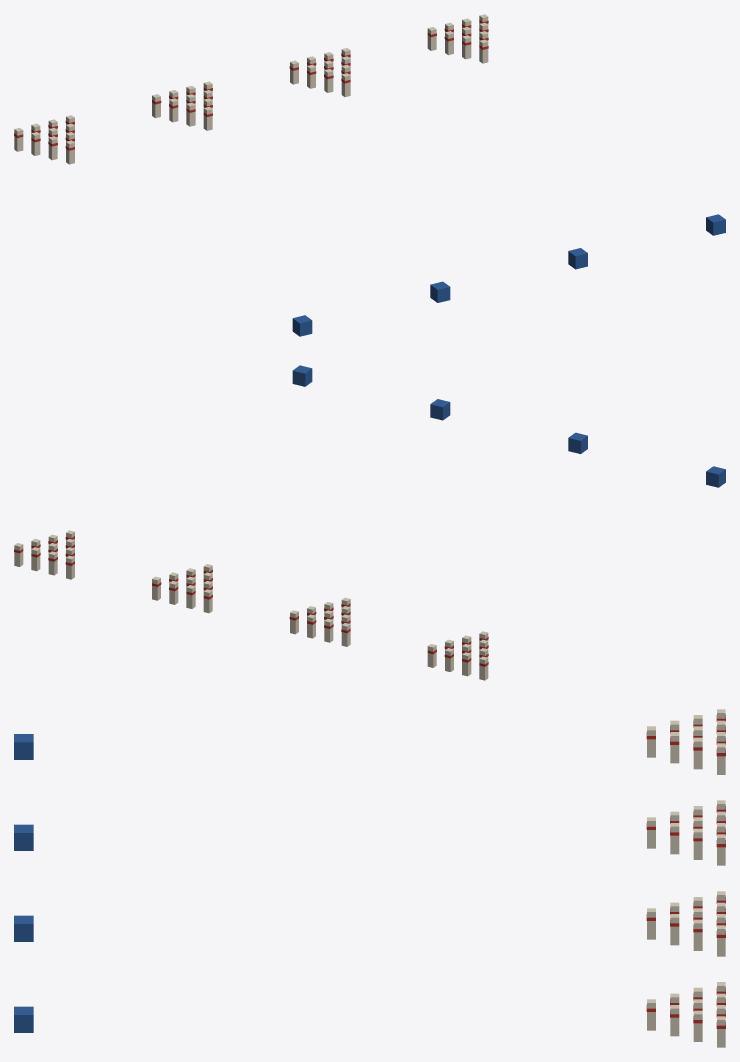
File: lanes.glb
The picture shows the model from 3 angles, top to bottom: view 1: azimuth 30°, elevation 25°; view 2: azimuth 150°, elevation 25°; view 3: azimuth 270°, elevation 25°; orthographic projection. The views are drawn at different scales.
Size of the model in its own units: 8.2 by 0.34 by 7.94.
